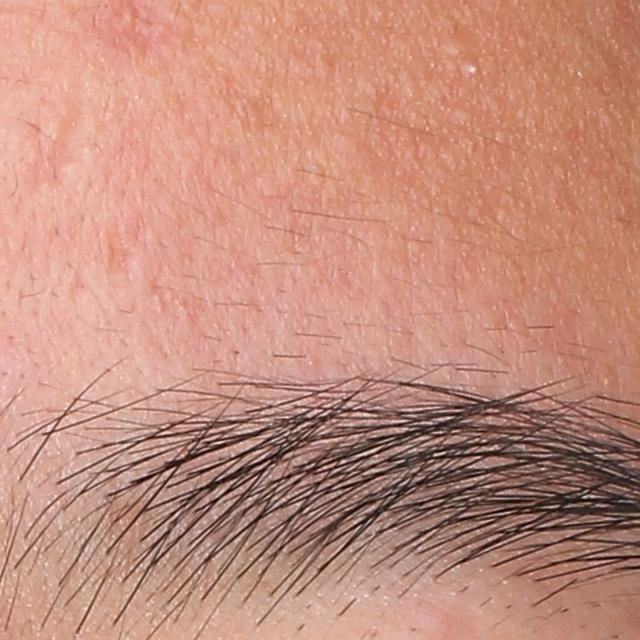atrophic_scar: (3, 63, 104, 209), (101, 229, 133, 280)
comedo: (463, 60, 482, 78)
